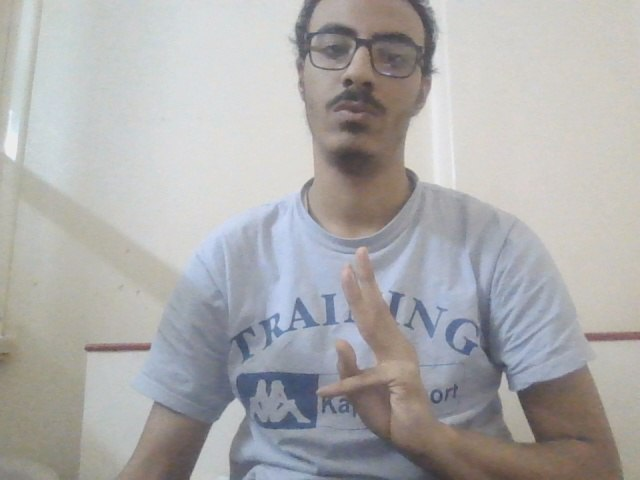Water: (301, 241, 450, 453)
